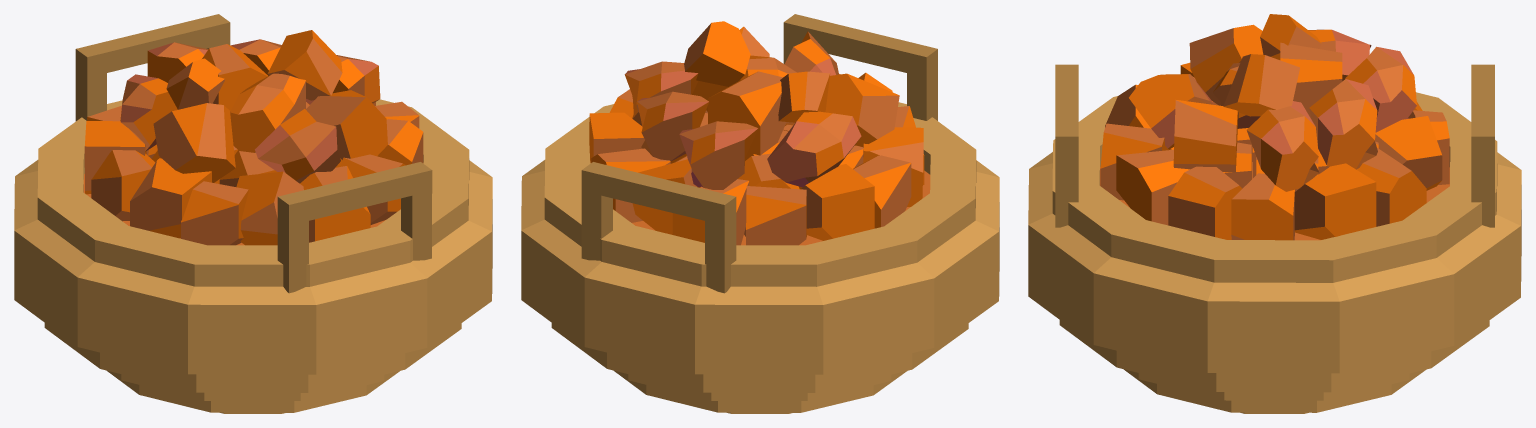
The model's file is iron_ore_bascket.fbx.
3 views of the same model, side by side, from view 1: azimuth 30°, elevation 25°; view 2: azimuth 150°, elevation 25°; view 3: azimuth 270°, elevation 25° (orthographic). The views are drawn at different scales.
Parts seen in each view (by area): view 1: iron_ore.001; view 2: iron_ore.001; view 3: iron_ore.001.
Boxes of the visible parts, <box> form: iron_ore.001: <box>14,14,492,413</box>; iron_ore.001: <box>521,14,999,413</box>; iron_ore.001: <box>1028,14,1521,413</box>.
Size of the model in its own units: 201 by 153 by 201.
